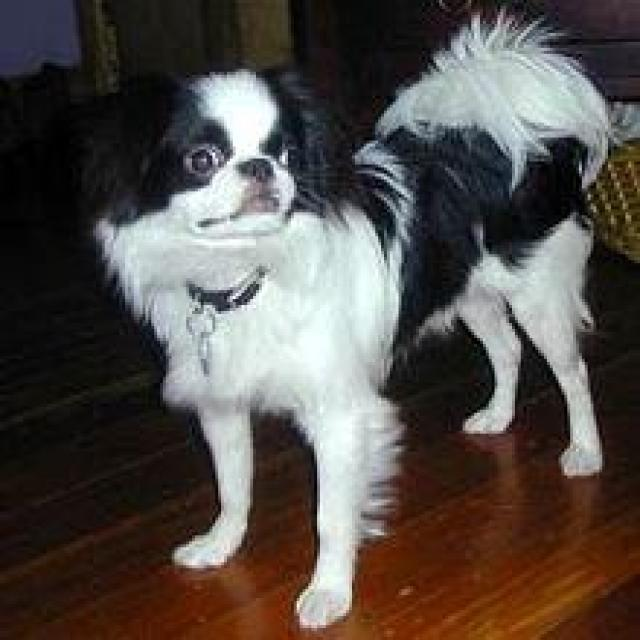husky: (87, 9, 614, 628)
